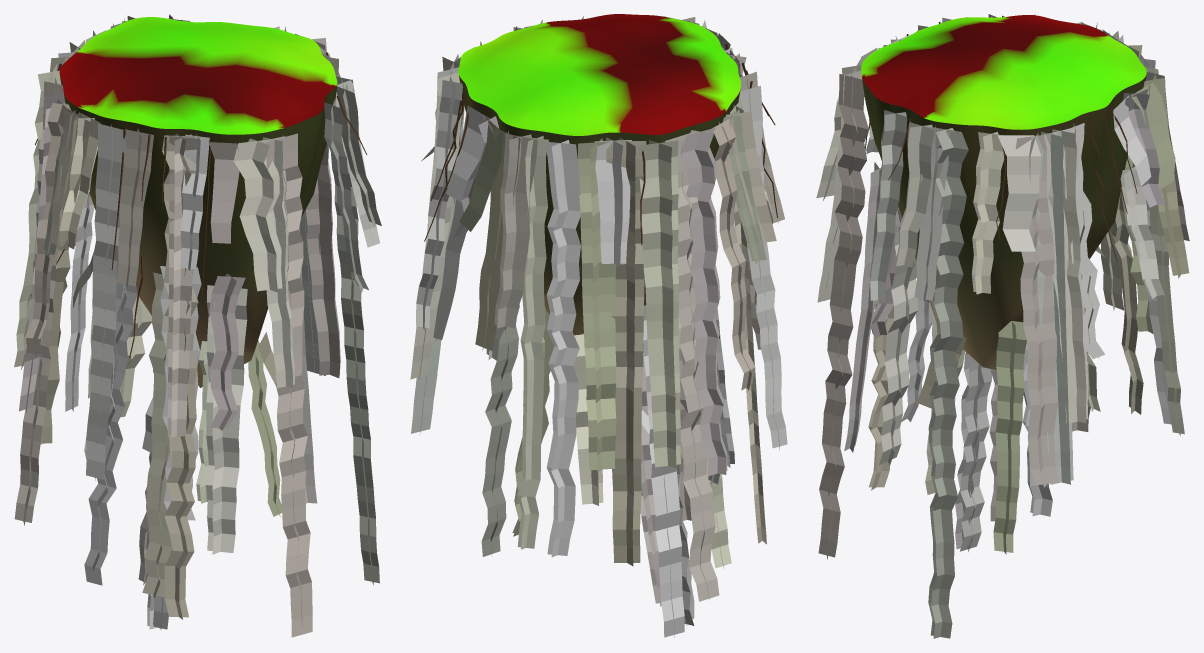
Rendered from SM_H11_Floater07.fbx.
3 renders of one model, left to right at view 1: azimuth 30°, elevation 25°; view 2: azimuth 150°, elevation 25°; view 3: azimuth 270°, elevation 25°, orthographic. The views are drawn at different scales.
Visible parts, largest first — view 1: SM_H11_Floater07_Ivy, SM_H11_Floater07; view 2: SM_H11_Floater07_Ivy, SM_H11_Floater07; view 3: SM_H11_Floater07_Ivy, SM_H11_Floater07.
Part boxes in pixels (<box>): SM_H11_Floater07_Ivy: <box>14,14,381,637</box>; SM_H11_Floater07: <box>59,17,337,387</box>; SM_H11_Floater07_Ivy: <box>410,16,787,637</box>; SM_H11_Floater07: <box>458,14,740,335</box>; SM_H11_Floater07_Ivy: <box>816,14,1189,638</box>; SM_H11_Floater07: <box>861,15,1146,369</box>.
Bounding box in the file's own units: 19.13 × 30.89 × 19.99.
